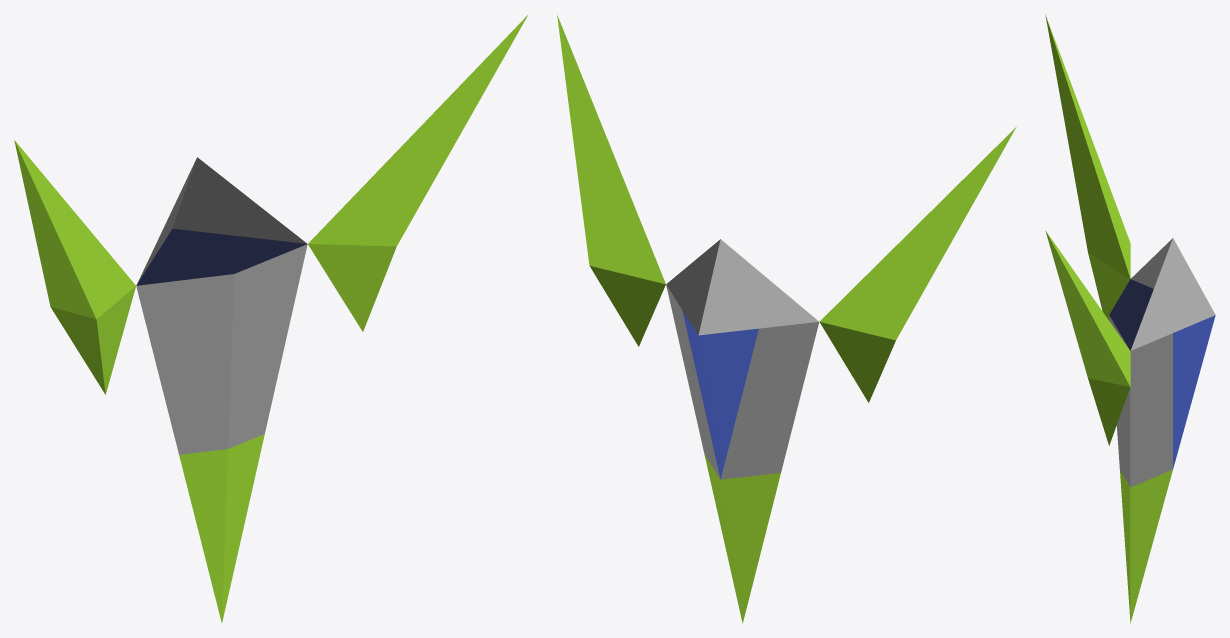
Rendered from enemyShip01.fbx.
3 renders of one model, left to right at view 1: azimuth 30°, elevation 25°; view 2: azimuth 150°, elevation 25°; view 3: azimuth 270°, elevation 25°, orthographic. The views are drawn at different scales.
Visible parts, largest first — view 1: arwingEnemy, arwingEnemyBack; view 2: arwingEnemy; view 3: arwingEnemy, arwingEnemyBack.
Boxes of the visible parts, x1=… form: arwingEnemy: x1=14, y1=14, x2=528, y2=622; arwingEnemyBack: x1=136, y1=228, x2=306, y2=285; arwingEnemy: x1=557, y1=14, x2=1016, y2=623; arwingEnemy: x1=1045, y1=15, x2=1215, y2=623; arwingEnemyBack: x1=1109, y1=279, x2=1153, y2=350.
Size of the model in its own units: 225 by 244 by 75.
2 materials, 2 textured.
